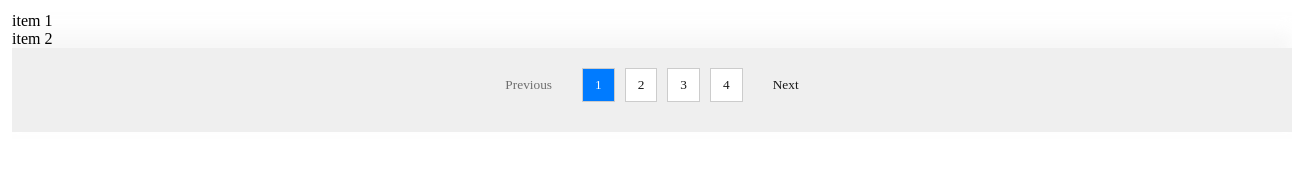
Scenario: Pagination › renders the current page and changes pages from the controls
Expected: the list item "item 1" is shown, top-left (12, 12), bottom-right (52, 29)
Expected: the list item "item 2" is shown, top-left (12, 30), bottom-right (52, 47)
Click the button named "Go to page 2" at [641, 85], box top-left (625, 68), bottom-right (657, 102)
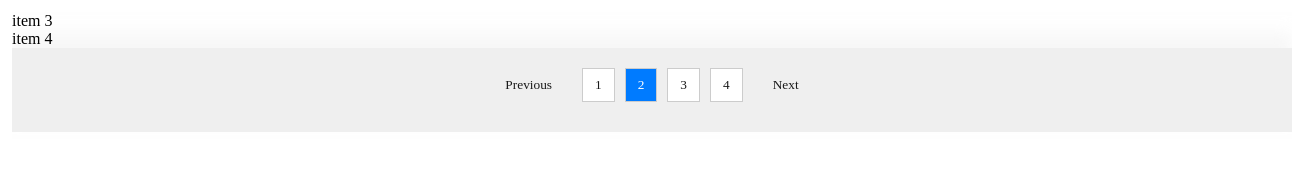
Expected: the list item "item 3" is shown, top-left (12, 12), bottom-right (52, 29)
Expected: the list item "item 4" is shown, top-left (12, 30), bottom-right (52, 47)
Expected: the list item "item 2" is gone
